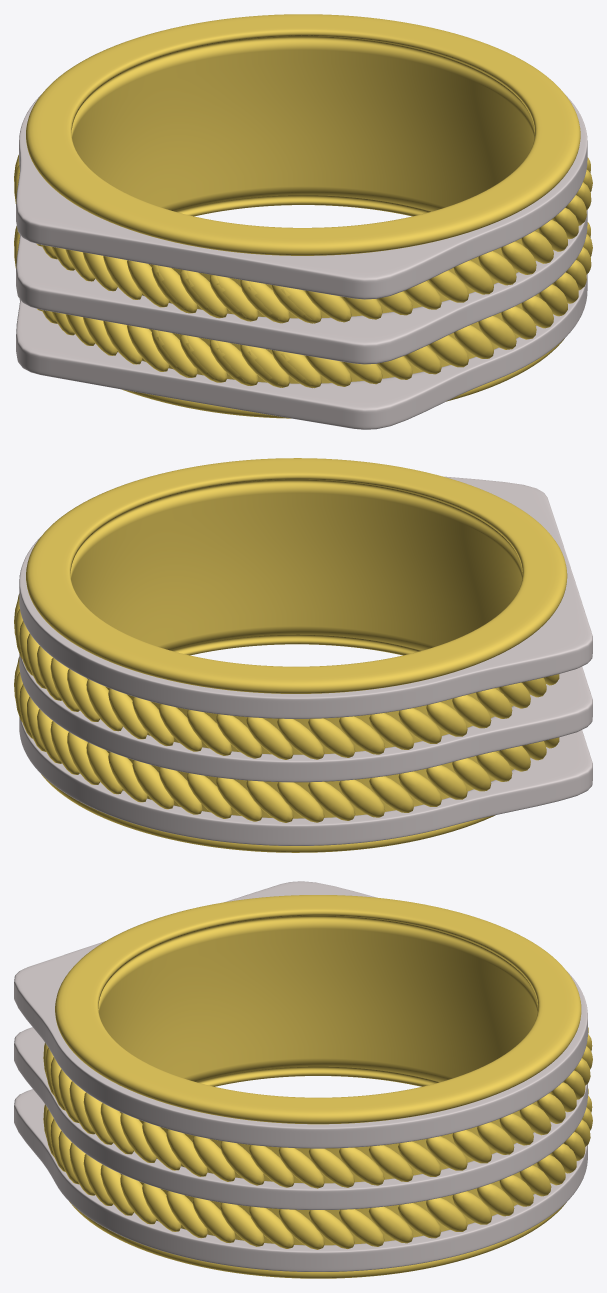
Rendered from Ring_3.fbx.
3 renders of one model, top to bottom at view 1: azimuth 30°, elevation 25°; view 2: azimuth 150°, elevation 25°; view 3: azimuth 270°, elevation 25°, orthographic. The views are drawn at different scales.
Parts seen in each view (by area): view 1: Ring; view 2: Ring; view 3: Ring.
Boxes of the visible parts, x1,y1,x2,y2 form: Ring: (14, 14, 592, 429); Ring: (14, 458, 592, 852); Ring: (14, 881, 592, 1278).
Bounding box in the file's own units: 2.51 × 0.7783 × 2.45.
